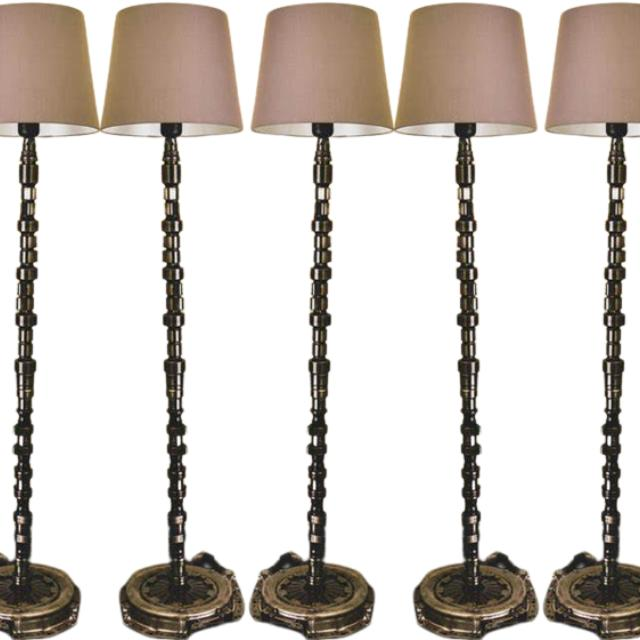lamp: (393, 2, 539, 640), (248, 2, 393, 640), (99, 2, 244, 640), (0, 2, 99, 640), (543, 2, 640, 640)
